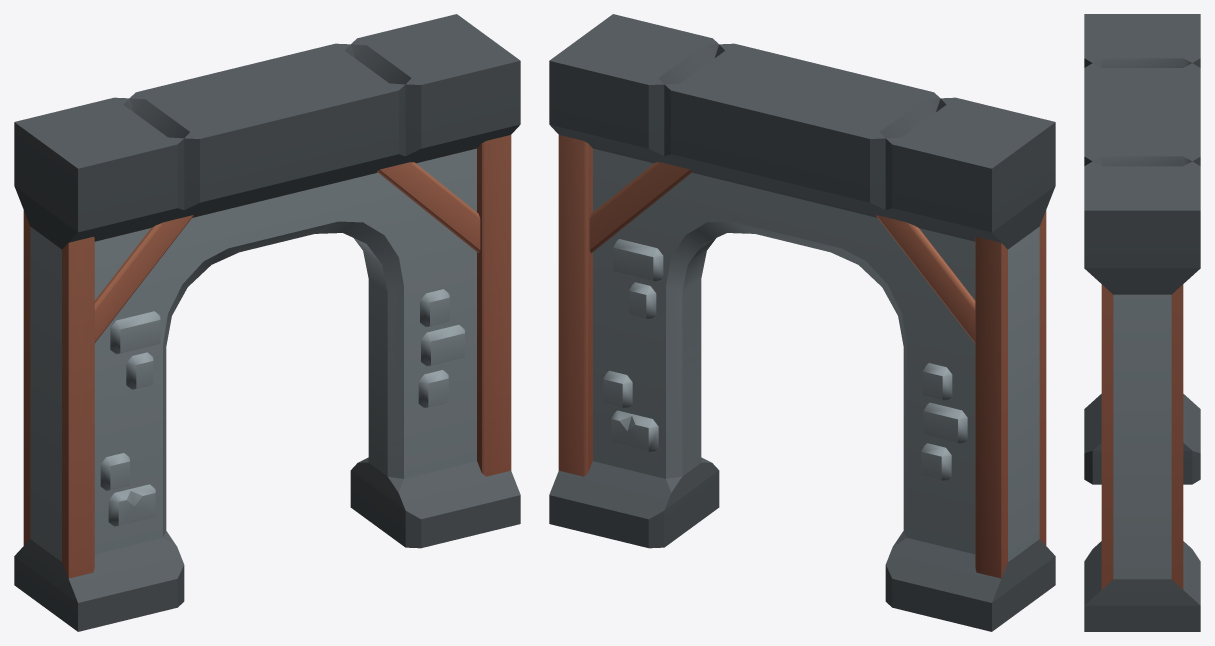
Rendered from wall_doorway_scaffold.obj.
3 views of the same model, side by side, from view 1: azimuth 30°, elevation 25°; view 2: azimuth 150°, elevation 25°; view 3: azimuth 270°, elevation 25° (orthographic). The views are drawn at different scales.
Parts seen in each view (by area): view 1: wall_doorway_scaffold; view 2: wall_doorway_scaffold; view 3: wall_doorway_scaffold.
Boxes of the visible parts, box(x1,y1,x2,y2) form: wall_doorway_scaffold: box(14, 14, 520, 631); wall_doorway_scaffold: box(549, 14, 1055, 631); wall_doorway_scaffold: box(1084, 14, 1200, 631).
Size of the model in its own units: 4 by 4 by 1.
Materials: 1 (1 with a texture image).
